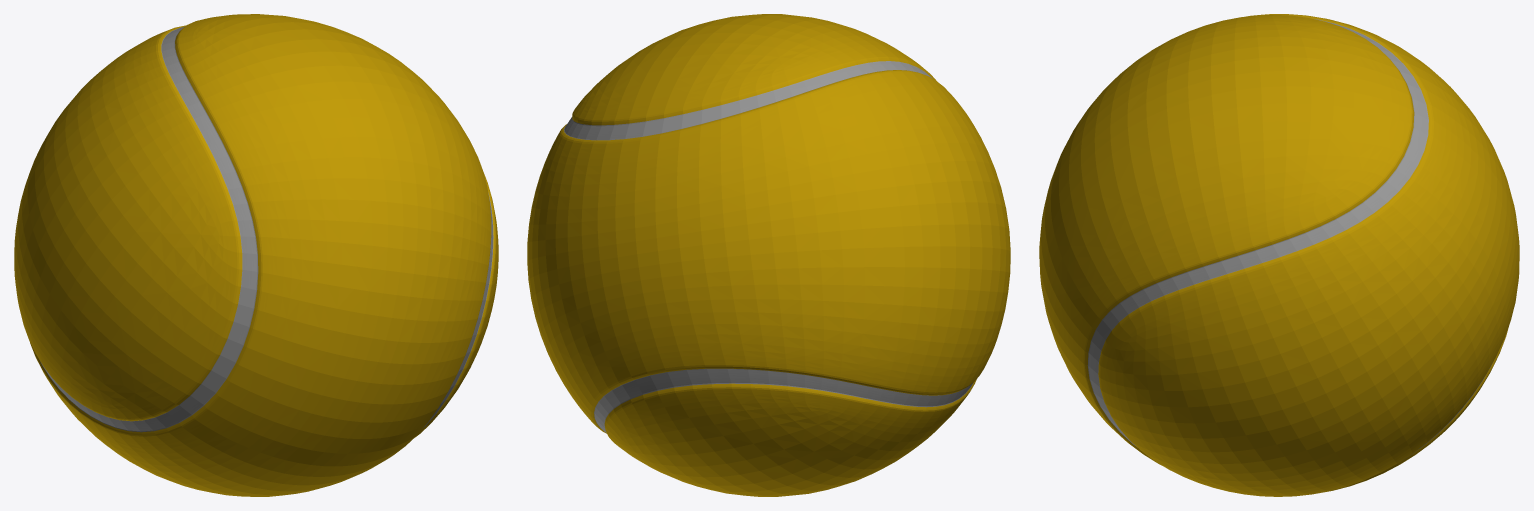
File: tennis_ball.dae
3 views of the same model, side by side, from view 1: azimuth 30°, elevation 25°; view 2: azimuth 150°, elevation 25°; view 3: azimuth 270°, elevation 25° (orthographic).
Visible parts, largest first — view 1: Ball; view 2: Ball; view 3: Ball.
Part boxes in pixels (box(x1,y1,x2,y2)): Ball: box(14, 14, 498, 496); Ball: box(527, 14, 1010, 496); Ball: box(1039, 14, 1519, 496).
Size of the model in its own units: 0.0641 by 0.064 by 0.0641.
